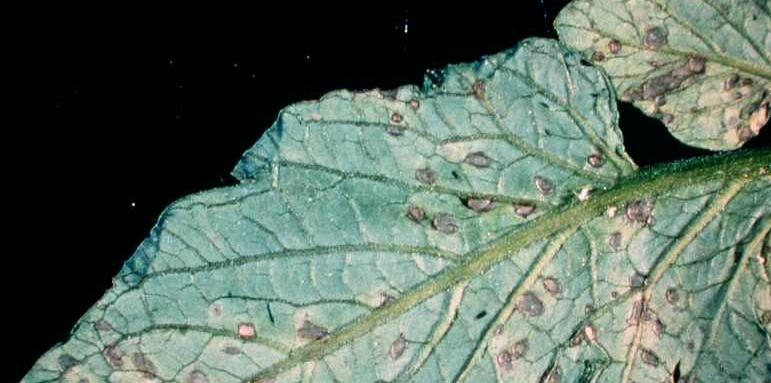Tomato Septoria leaf spot: (1, 4, 771, 383), (551, 0, 771, 151)
